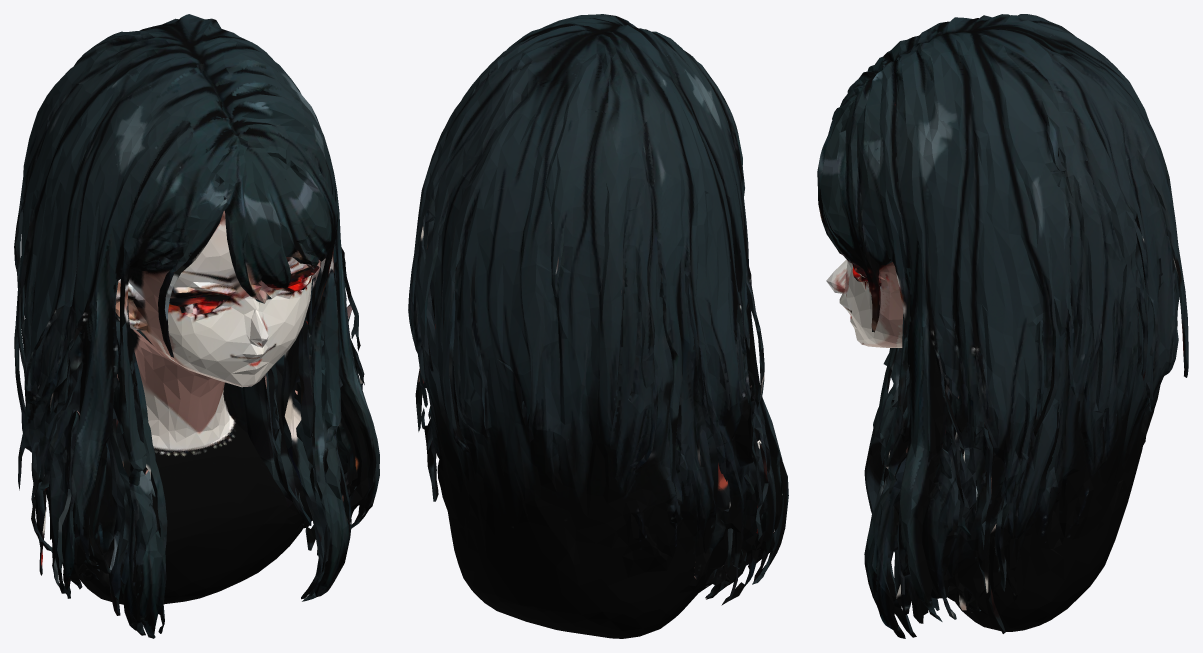
Rendered from trav_mitsue_portrait_face.glb.
3 views of the same model, side by side, from view 1: azimuth 30°, elevation 25°; view 2: azimuth 150°, elevation 25°; view 3: azimuth 270°, elevation 25° (orthographic). The views are drawn at different scales.
Parts seen in each view (by area): view 1: temp_mesh.ply; view 2: temp_mesh.ply; view 3: temp_mesh.ply.
Boxes of the visible parts, <box> form: temp_mesh.ply: <box>14,14,379,638</box>; temp_mesh.ply: <box>408,14,788,638</box>; temp_mesh.ply: <box>817,14,1188,638</box>.
Bounding box in the file's own units: 1.23 × 1.97 × 1.15.
1 material, 1 textured.
